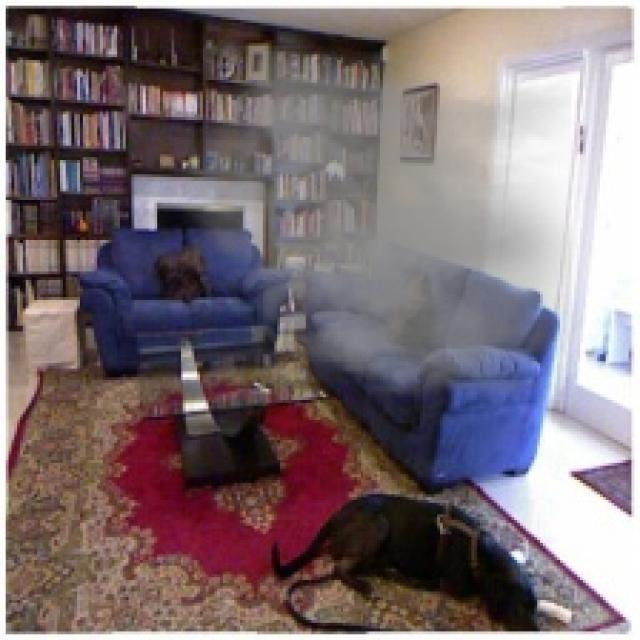Smoke: (166, 46, 572, 397)
